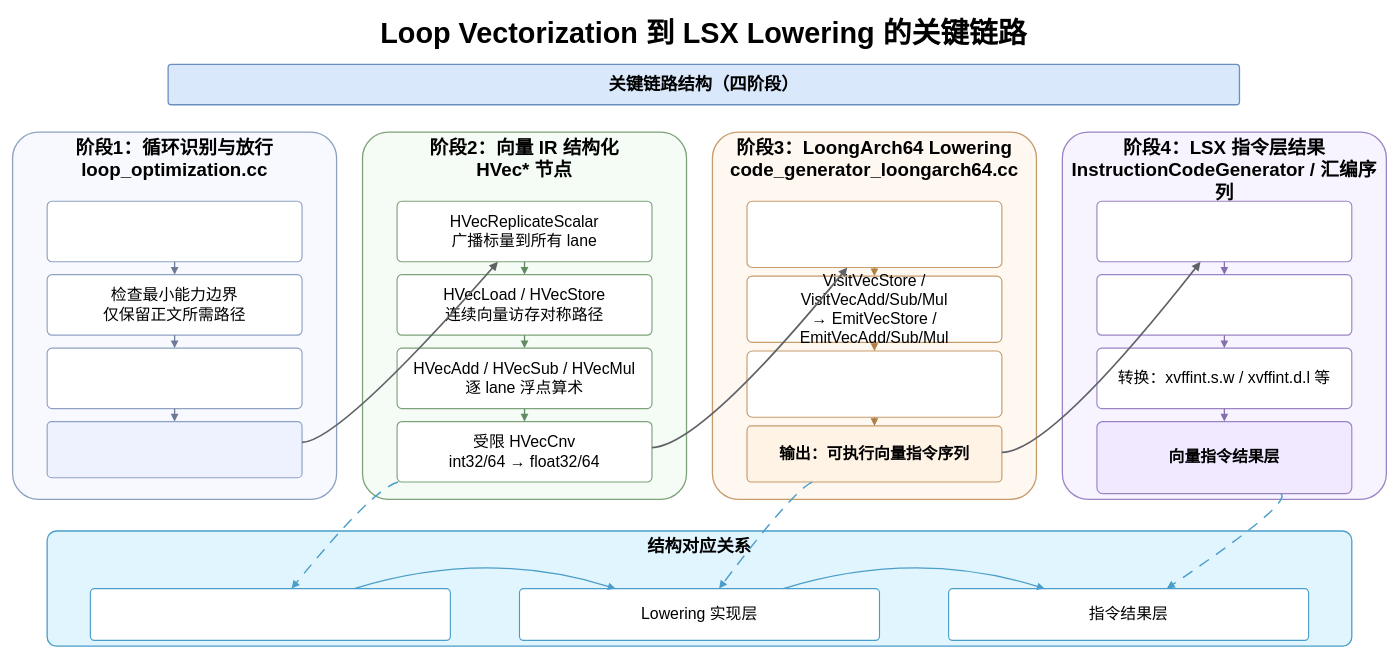
The diagram is 1400 pixels wide and 659 high, and some of its shapes have lost their labels. The shapes that lost their labels are listed below. From the top down, each one's centre as x and y in pixels, then its label:
(x=174, y=231): 识别规则浮点循环 确认连续访存与单位步长
(x=874, y=234): VisitVecReplicate / VisitVecLoad → EmitVecReplicateFromGpr / EmitVecLoad
(x=1224, y=231): 访存/广播：xvld, xvst, xvldrepl.w, xvldrepl.d
(x=1224, y=304): 算术：xvfadd.s/d, xvfsub.s/d, xvfmul.s/d
(x=174, y=378): 放行 VecLoad / Replicate → VecCnv 进入向量 IR 构建
(x=874, y=383): VisitVecCnv → EmitVecCnv 完成受限转换 lowering
(x=174, y=449): 输出：可向量化循环候选
(x=270, y=614): IR 结构层
